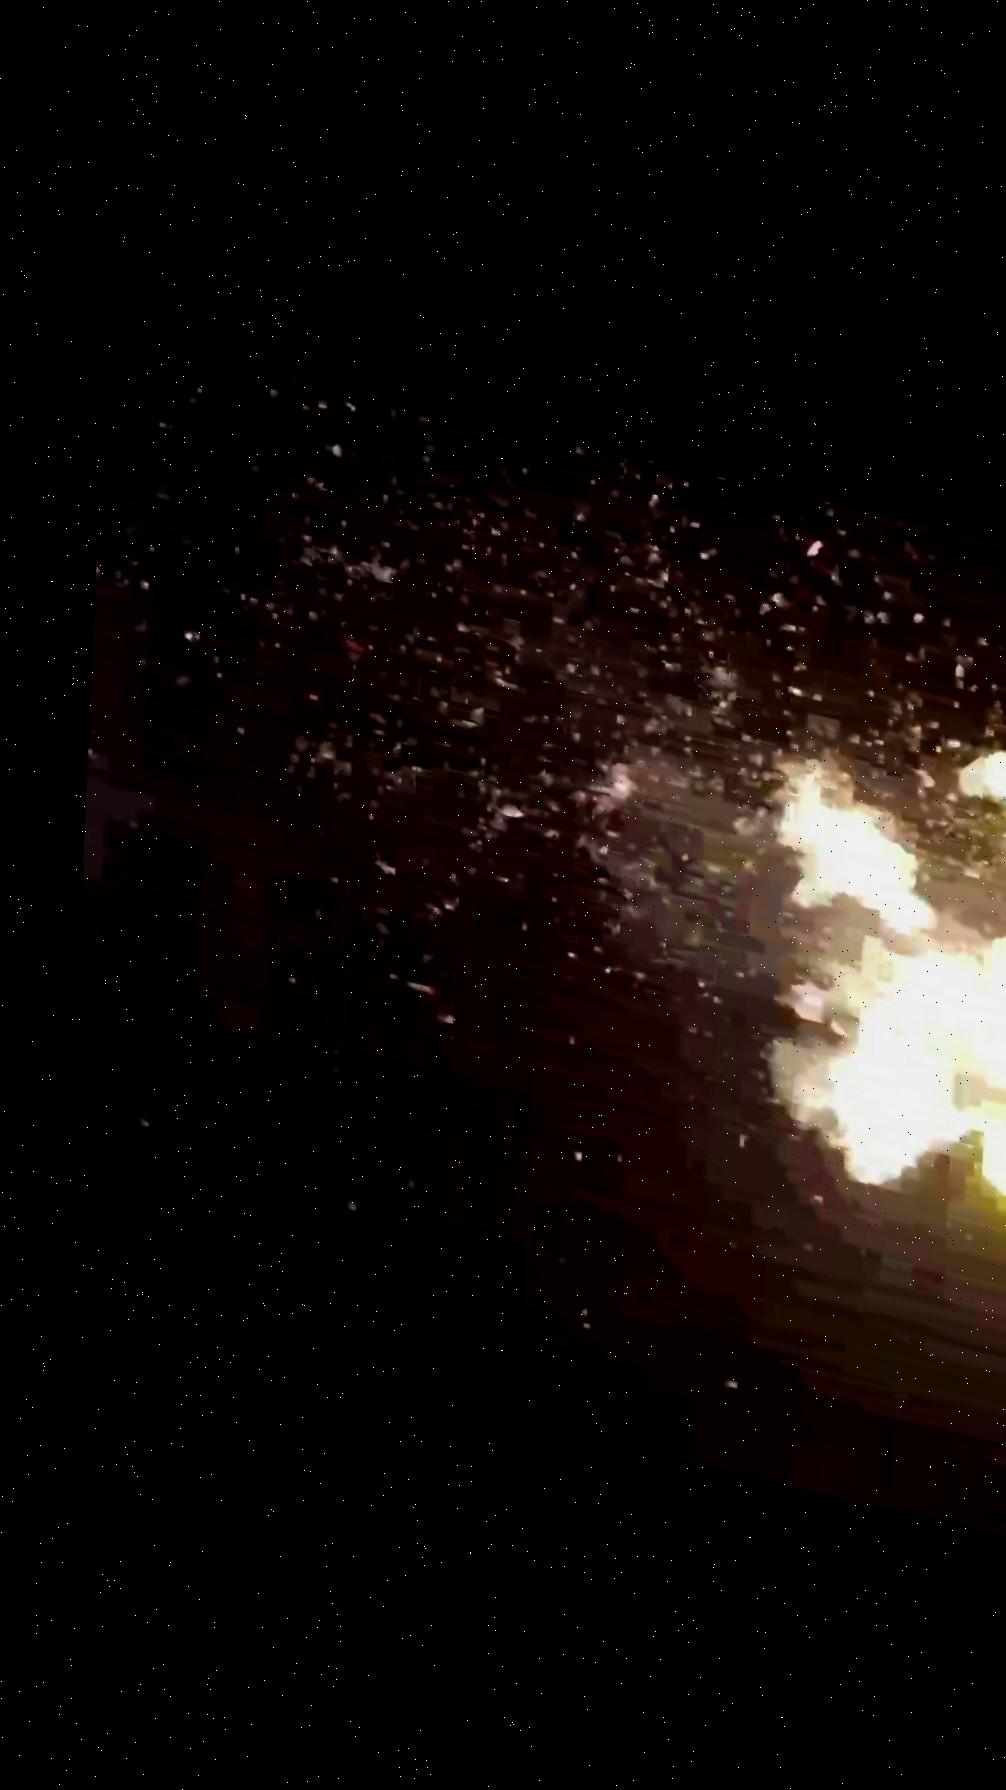fire: (202, 219, 1006, 1651)
